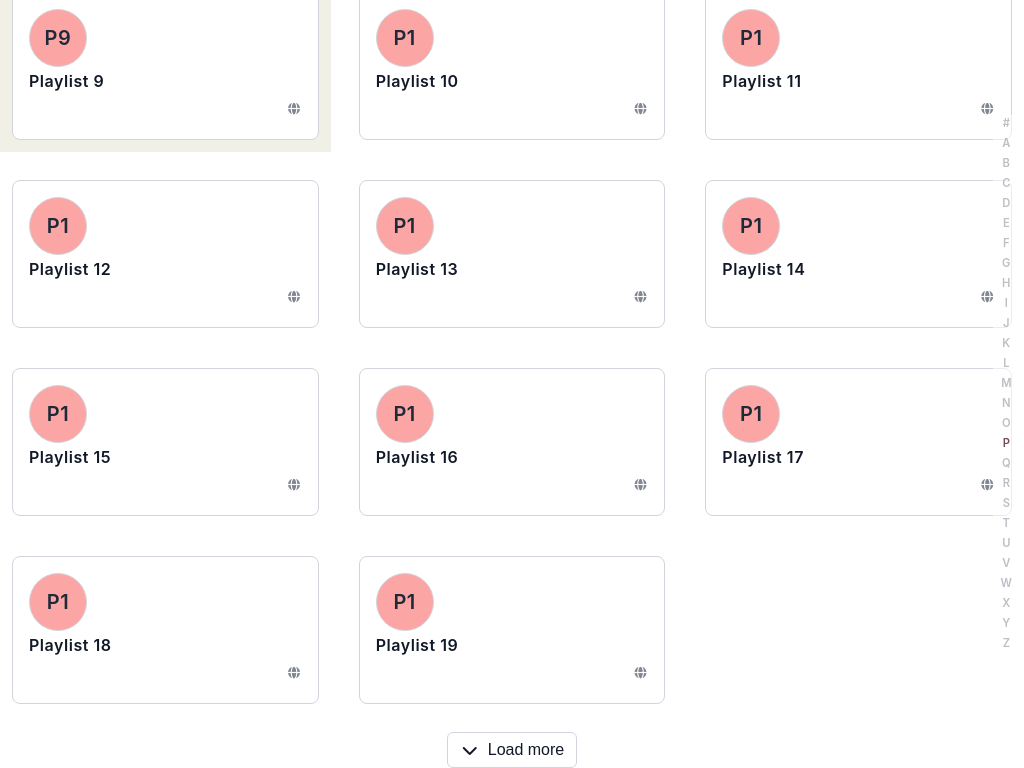
it: PlaylistsView › loads the next page
(page scrolled)
Click the button "Load more". click: click(512, 750)
box: [447, 732, 577, 767]
(page scrolled)
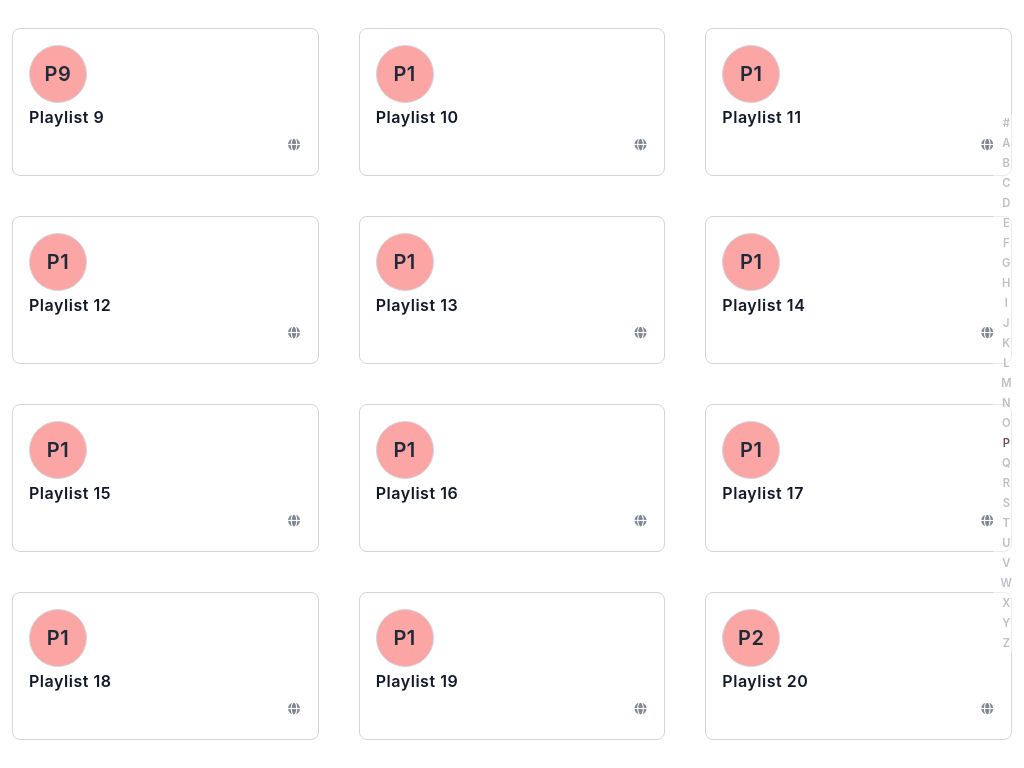
Check: the text "Playlist 19" is shown, box [376, 671, 458, 691]
Check: the text "Playlist 20" is shown, box [722, 671, 808, 691]
